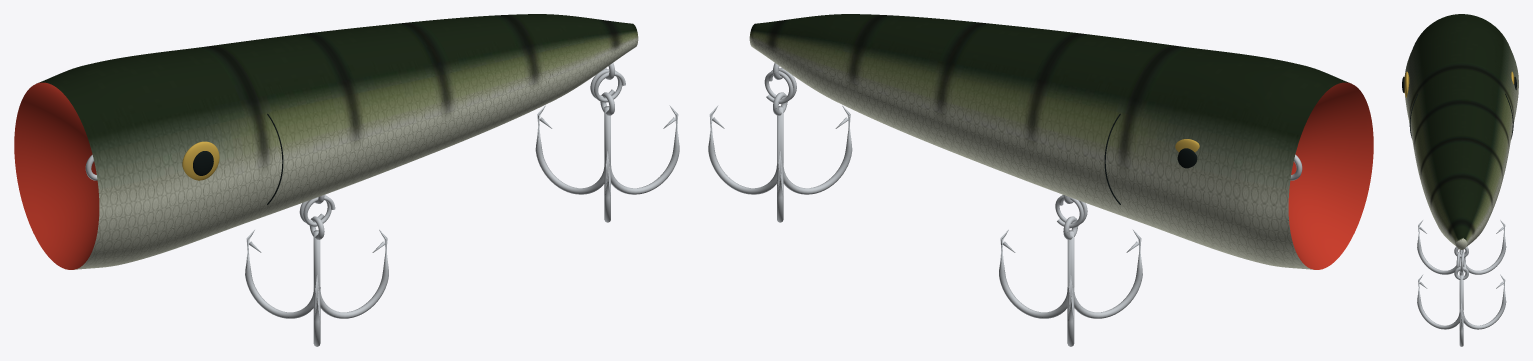
File: popper.glb
The picture shows the model from 3 angles, left to right: view 1: azimuth 30°, elevation 25°; view 2: azimuth 150°, elevation 25°; view 3: azimuth 270°, elevation 25°; orthographic projection. The views are drawn at different scales.
Visible parts, largest first — view 1: popper specimen; view 2: popper specimen; view 3: popper specimen.
Part boxes in pixels (x1,y1,x2,y2): popper specimen: (14, 14, 679, 346); popper specimen: (708, 14, 1373, 346); popper specimen: (1402, 14, 1518, 346).
Size of the model in its own units: 1.44 by 0.6771 by 0.3776.
5 materials, 1 textured.
